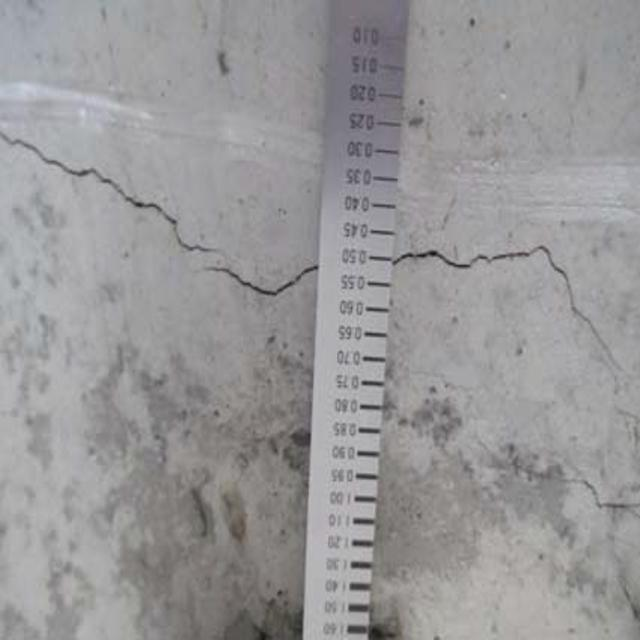crack: (3, 122, 323, 324), (394, 229, 640, 377), (509, 446, 634, 524)
